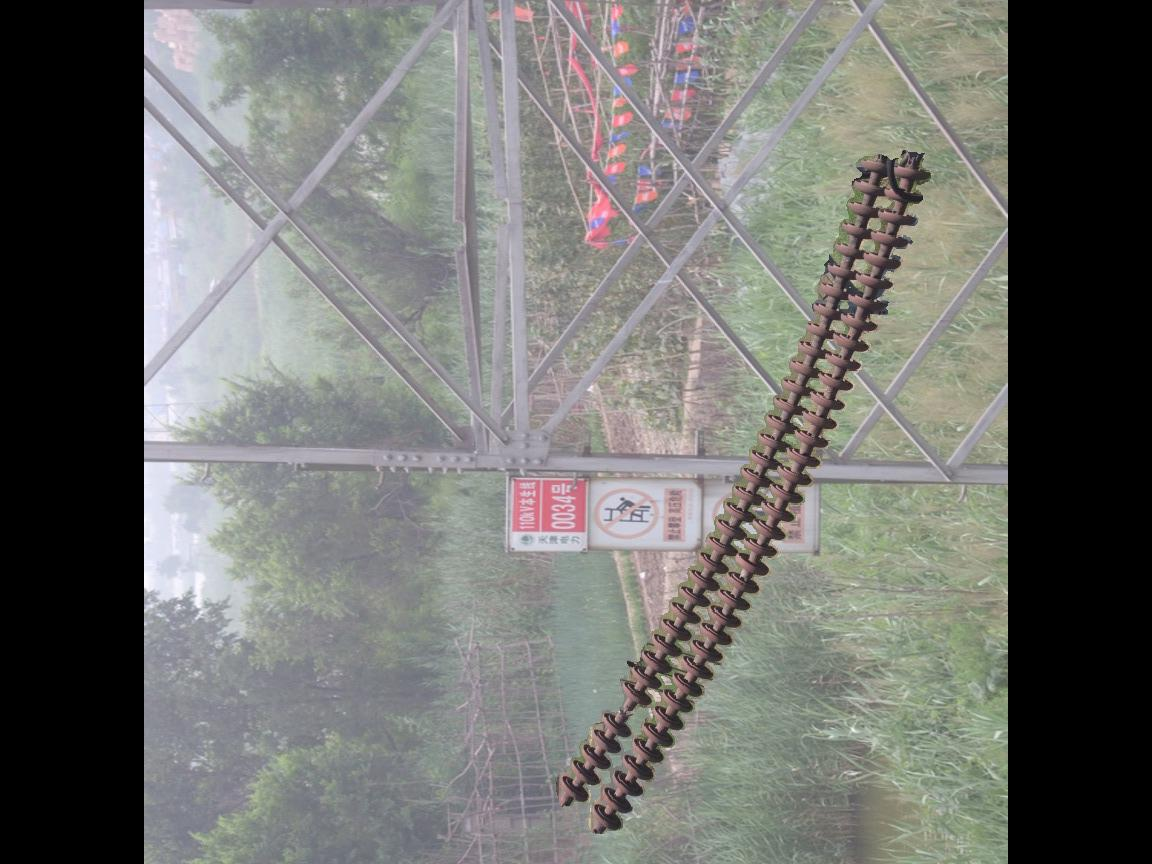insulator: (554, 148, 932, 836)
insulator_stringdrop: (598, 678, 653, 742)
